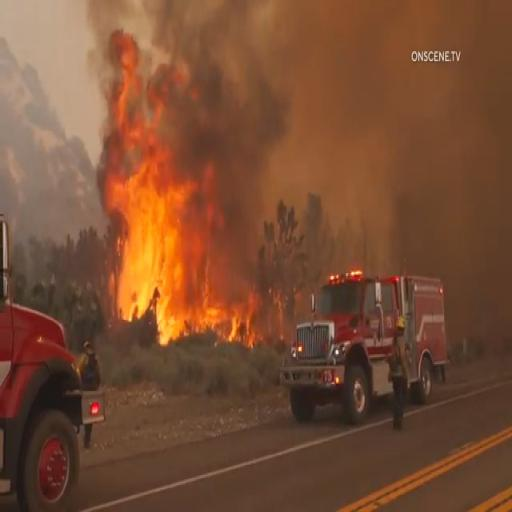fire: (104, 29, 178, 333), (174, 262, 250, 331)
smoke: (201, 21, 394, 165), (392, 151, 503, 266)
